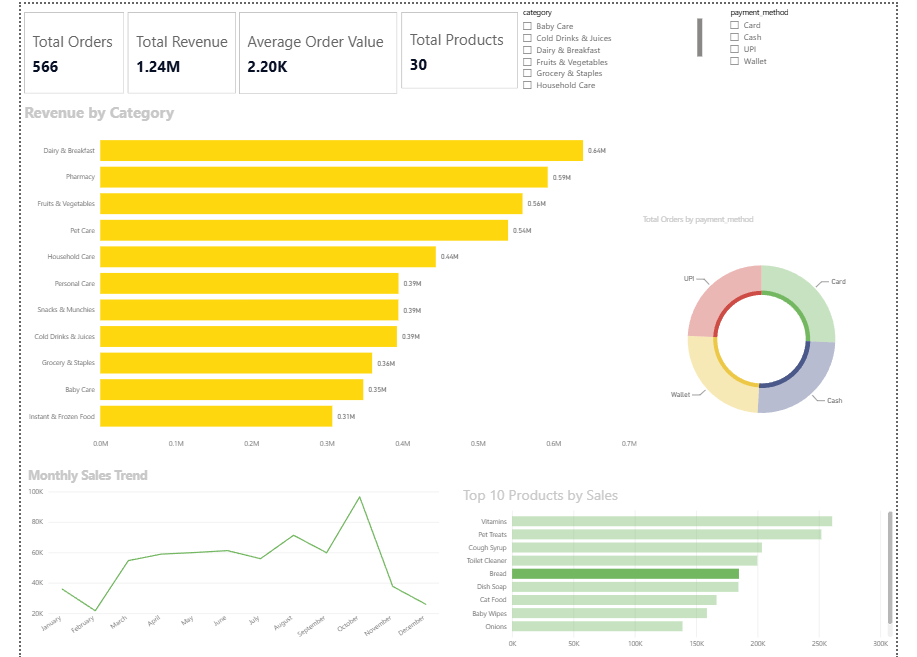

The page's visual inventory and layout, read from the dashboard file:
{"tool":"powerbi","page":{"name":"Dashboard","canvas":[1400,1600],"ordinal":0},"visuals":[{"type":"clusteredBarChart","title":"Revenue by Category","fields":{"Y":["customers_cleaned.Total Sales"],"Category":["products_cleaned.category"]},"box":[0,155,990,565],"z":0},{"type":"donutChart","fields":{"Category":["orders_cleaned.payment_method"],"Y":["customers_cleaned.Total Orders"]},"box":[990,335,390,385],"z":1},{"type":"lineChart","title":"Monthly Sales Trend","fields":{"Category":["orders_cleaned.order_date.Variation.Date Hierarchy.Month"],"Y":["customers_cleaned.Total Sales"]},"box":[10,760,1260,305],"z":2},{"type":"cardVisual","fields":{"Data":["customers_cleaned.Total Orders"]},"box":[0,7.5,170,140.7],"z":3},{"type":"cardVisual","fields":{"Data":["customers_cleaned.Total Revenue"]},"box":[165.5,7.5,183.6,140.7],"z":4},{"type":"cardVisual","fields":{"Data":["customers_cleaned.Total Products"]},"box":[603.8,7.5,196.2,132.5],"z":5},{"type":"cardVisual","fields":{"Data":["customers_cleaned.Average Order Value"]},"box":[344.5,7.5,263.8,141.2],"z":6},{"type":"clusteredBarChart","title":"Top 10 Products by Sales","fields":{"Category":["products_cleaned.product_name"],"Y":["customers_cleaned.Total Sales"]},"box":[10,1065,790,300],"z":7},{"type":"slicer","fields":{"Values":["products_cleaned.category"]},"box":[790,0,305,141],"z":8},{"type":"slicer","fields":{"Values":["orders_cleaned.payment_method"]},"box":[1122,0,148,150],"z":9}]}

Visuals, with their boxes on the page's 1400x1600 design canvas (x1, y1, x2, y2). These are canvas units, not pixel positions in the 917x657 screenshot, which may show the page scaled, cropped or inside an application window:
"Revenue by Category" clusteredBarChart: bbox(0, 155, 990, 720)
donutChart - orders_cleaned.payment_method x customers_cleaned.Total Orders: bbox(990, 335, 1380, 720)
"Monthly Sales Trend" lineChart: bbox(10, 760, 1270, 1065)
cardVisual - customers_cleaned.Total Orders: bbox(0, 8, 170, 148)
cardVisual - customers_cleaned.Total Revenue: bbox(166, 8, 349, 148)
cardVisual - customers_cleaned.Total Products: bbox(604, 8, 800, 140)
cardVisual - customers_cleaned.Average Order Value: bbox(344, 8, 608, 149)
"Top 10 Products by Sales" clusteredBarChart: bbox(10, 1065, 800, 1365)
slicer - products_cleaned.category: bbox(790, 0, 1095, 141)
slicer - orders_cleaned.payment_method: bbox(1122, 0, 1270, 150)
